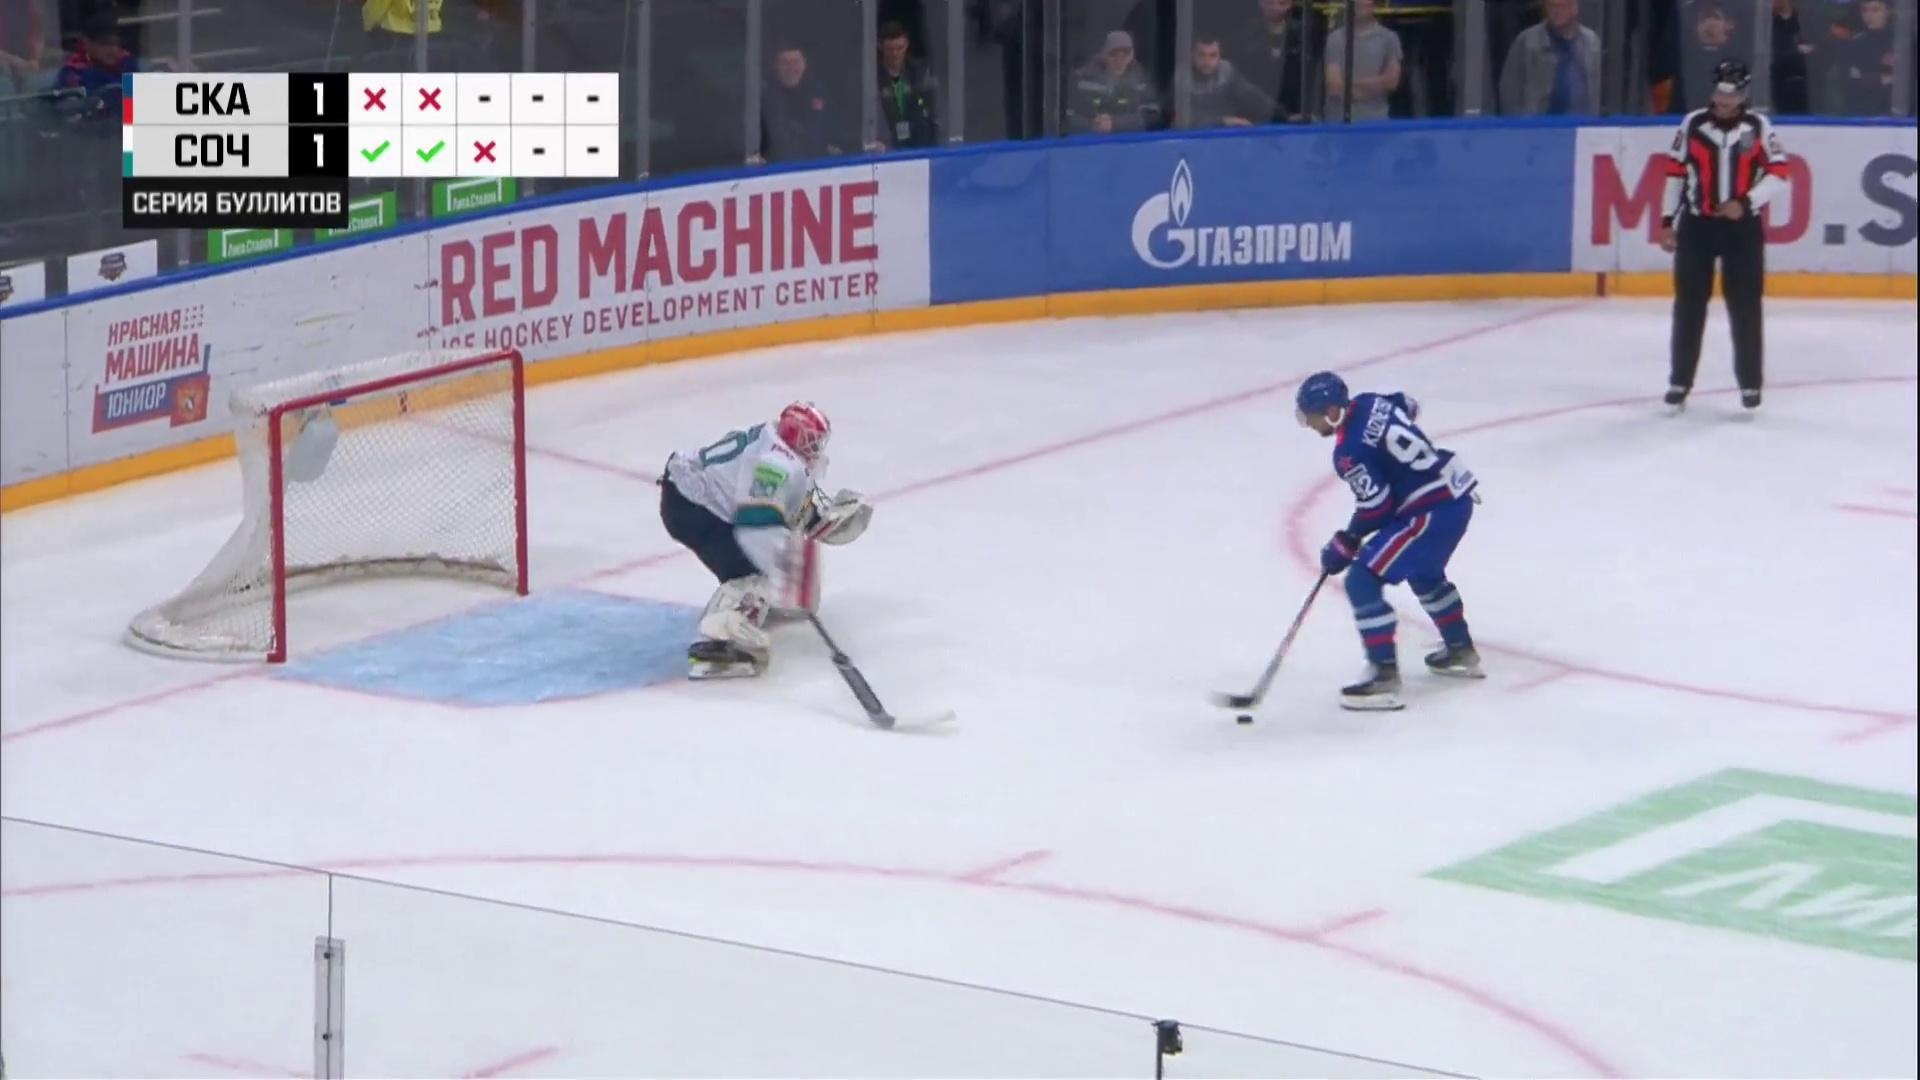ball: (1236, 715, 1254, 725)
